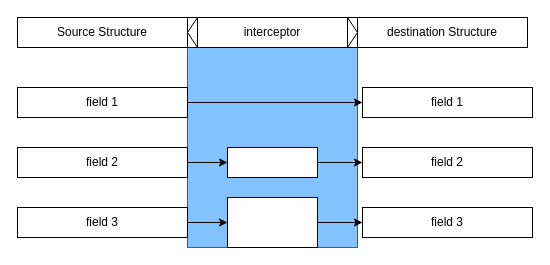
This 550x265 diagram has some shape labels left out. The shapes that lost their labels are listed below. From the top down, each one's box as (x1, y1, x2, y2) in pixels, then its label:
(226, 146, 318, 178): decode base64
(226, 196, 318, 248): query from table the result times to source value
